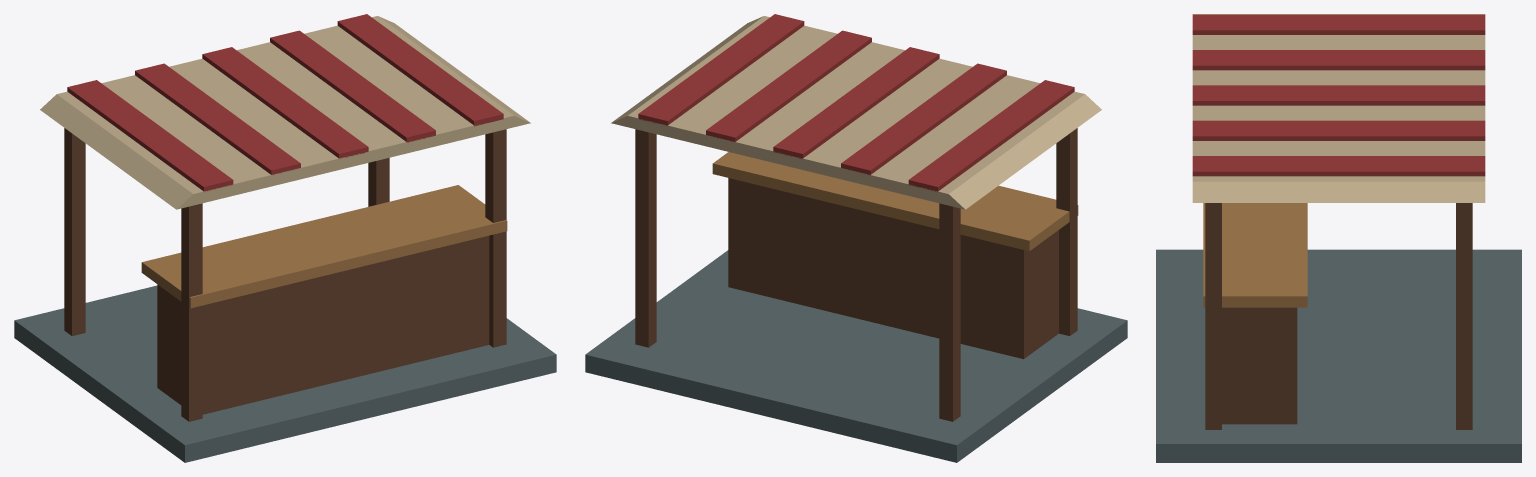
The model's file is PirateCove_MarketStall_Simple.glb.
3 renders of one model, left to right at view 1: azimuth 30°, elevation 25°; view 2: azimuth 150°, elevation 25°; view 3: azimuth 270°, elevation 25°, orthographic. The views are drawn at different scales.
Parts seen in each view (by area): view 1: PirateCove_MarketStall_Simple; view 2: PirateCove_MarketStall_Simple; view 3: PirateCove_MarketStall_Simple.
Part boxes in pixels (x1,y1,x2,y2): PirateCove_MarketStall_Simple: (14, 14, 556, 462); PirateCove_MarketStall_Simple: (585, 14, 1127, 462); PirateCove_MarketStall_Simple: (1156, 14, 1521, 462).
Bounding box in the file's own units: 4.4 × 2.88 × 3.5.
